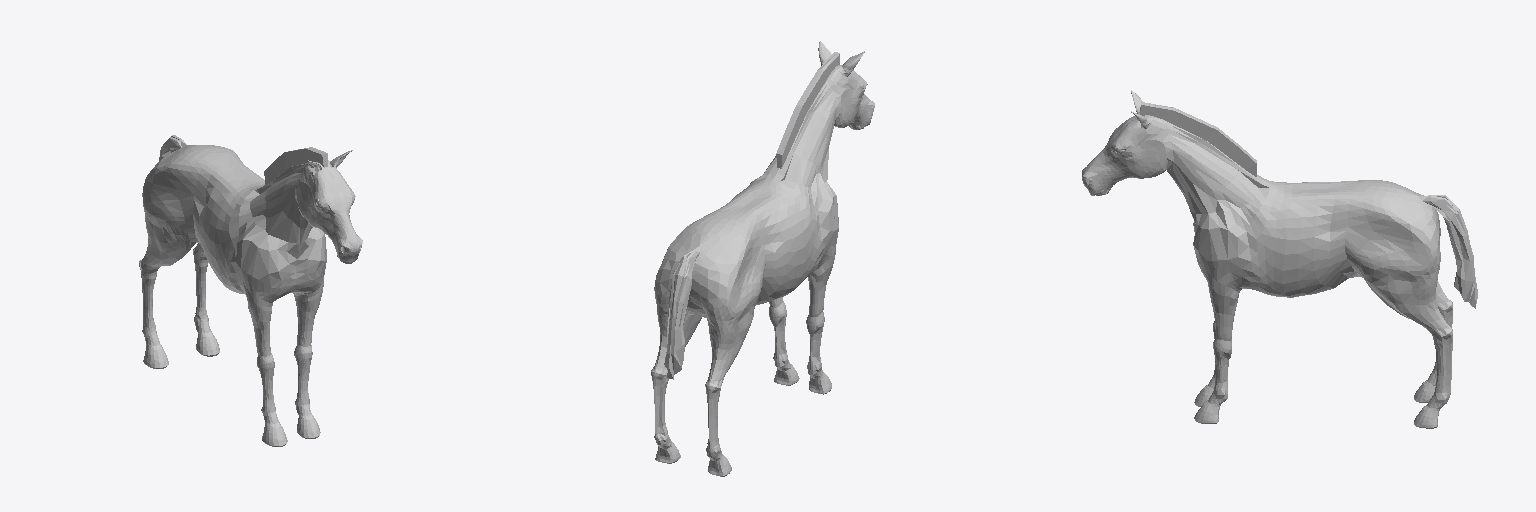
Rendered from zebra.obj.
3 views of the same model, side by side, from view 1: azimuth 30°, elevation 25°; view 2: azimuth 150°, elevation 25°; view 3: azimuth 270°, elevation 25° (orthographic).
Parts seen in each view (by area): view 1: zeb_body; view 2: zeb_body; view 3: zeb_body.
Boxes of the visible parts, x1,y1,x2,y2 form: zeb_body: [139, 135, 362, 446]; zeb_body: [651, 41, 874, 476]; zeb_body: [1082, 90, 1477, 428].
Size of the model in its own units: 0.5293 by 1.91 by 2.2.